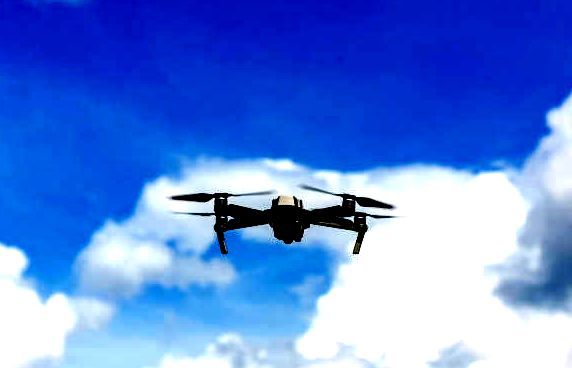Drone: (159, 180, 401, 256)
